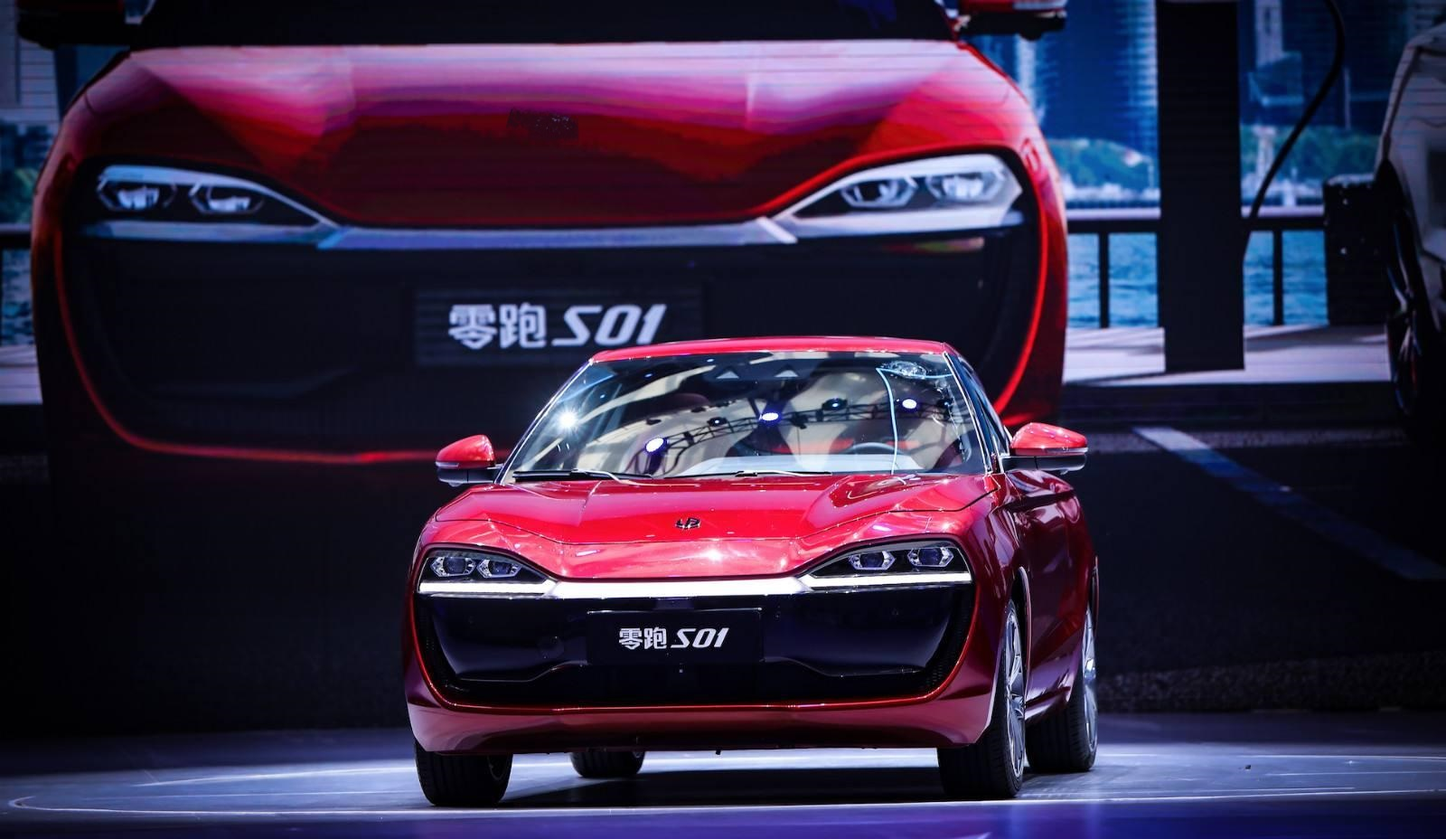LEAPMOTOR: (675, 515, 702, 530)
